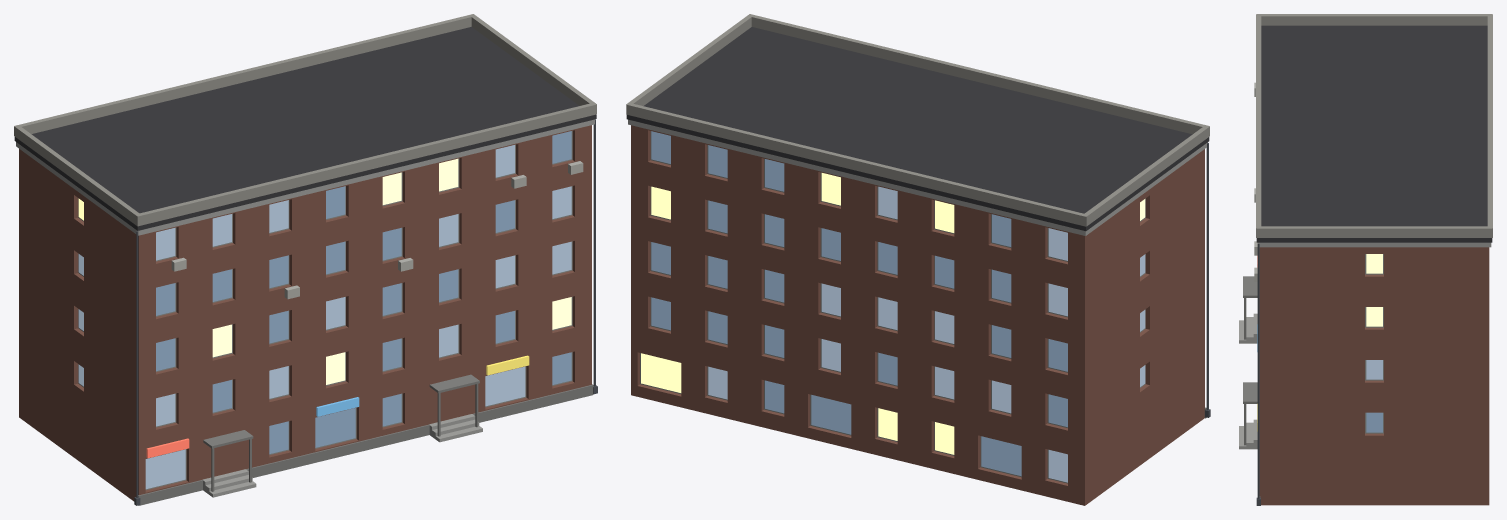
Rendered from brick5.glb.
3 renders of one model, left to right at view 1: azimuth 30°, elevation 25°; view 2: azimuth 150°, elevation 25°; view 3: azimuth 270°, elevation 25°, orthographic. The views are drawn at different scales.
Parts seen in each view (by area): view 1: facade_front, roof_slab, facade_left, parapet_y, parapet_y.001, plinth, cornice, parapet_x, parapet_x.001, downpipe, downpipe.001; view 2: facade_back, roof_slab, facade_left, parapet_y.001, parapet_y, cornice, parapet_x, parapet_x.001, downpipe; view 3: facade_right, roof_slab, parapet_x.001, parapet_x, cornice, parapet_y.001, parapet_y, downpipe.001, canopy.001, canopy.
Part boxes in pixels (bbox=[...]): facade_front: bbox=[139, 125, 591, 495]; roof_slab: bbox=[14, 27, 596, 230]; facade_left: bbox=[19, 149, 138, 501]; parapet_y: bbox=[136, 102, 596, 226]; parapet_y.001: bbox=[15, 14, 474, 133]; plinth: bbox=[138, 384, 593, 505]; cornice: bbox=[16, 119, 594, 235]; parapet_x: bbox=[14, 125, 140, 226]; parapet_x.001: bbox=[469, 14, 596, 113]; downpipe: bbox=[136, 231, 138, 497]; downpipe.001: bbox=[593, 119, 595, 386]; facade_back: bbox=[631, 125, 1084, 505]; roof_slab: bbox=[626, 27, 1209, 231]; facade_left: bbox=[1085, 149, 1204, 505]; parapet_y.001: bbox=[626, 103, 1086, 226]; parapet_y: bbox=[748, 14, 1209, 134]; cornice: bbox=[628, 119, 1207, 235]; parapet_x: bbox=[1082, 125, 1209, 226]; parapet_x.001: bbox=[626, 14, 753, 105]; downpipe: bbox=[1206, 143, 1208, 410]; facade_right: bbox=[1259, 247, 1489, 505]; roof_slab: bbox=[1256, 25, 1492, 242]; parapet_x.001: bbox=[1256, 226, 1492, 237]; parapet_x: bbox=[1256, 14, 1492, 25]; cornice: bbox=[1257, 242, 1491, 247]; parapet_y.001: bbox=[1487, 14, 1492, 237]; parapet_y: bbox=[1256, 14, 1261, 237]; downpipe.001: bbox=[1257, 243, 1259, 498]; canopy.001: bbox=[1243, 382, 1257, 403]; canopy: bbox=[1243, 276, 1257, 297].
Size of what is drawn, in the model's own units: 24.44 by 14.72 by 12.17.
